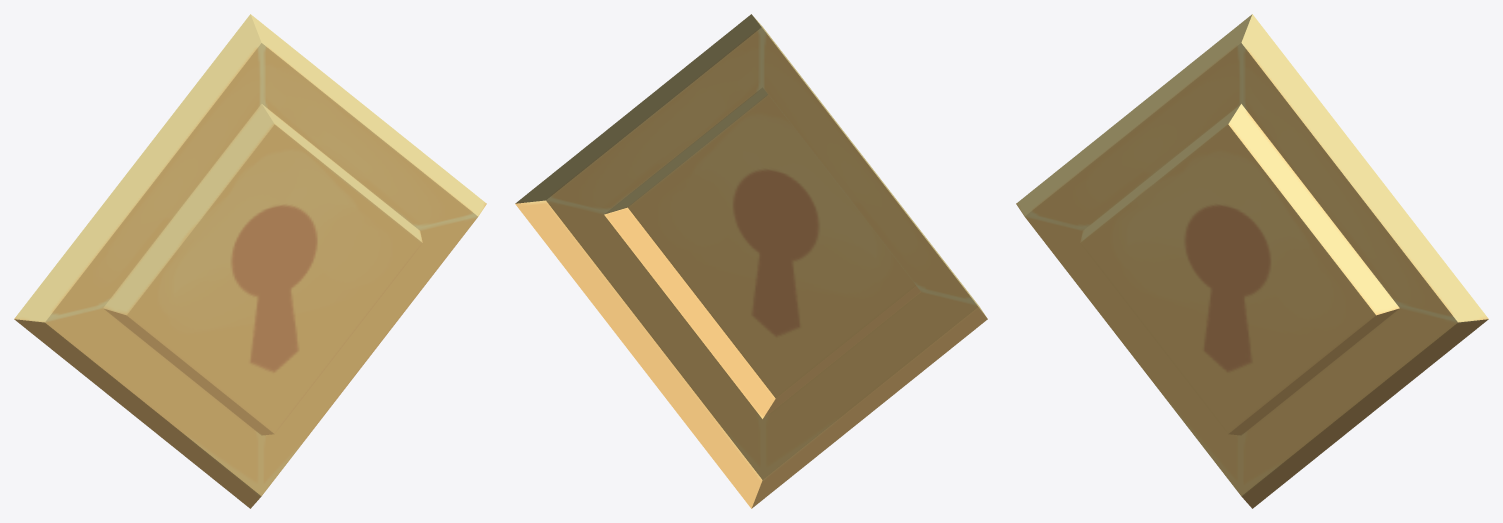
The model's file is doorLock_MESH.fbx.
3 views of the same model, side by side, from view 1: azimuth 30°, elevation 25°; view 2: azimuth 150°, elevation 25°; view 3: azimuth 330°, elevation 25° (orthographic).
Visible parts, largest first — view 1: doorLock_MESH; view 2: doorLock_MESH; view 3: doorLock_MESH.
Part boxes in pixels (<box>): doorLock_MESH: <box>14,14,486,508</box>; doorLock_MESH: <box>515,14,987,508</box>; doorLock_MESH: <box>1016,14,1488,508</box>.
Bounding box in the file's own units: 13.38 × 13.38 × 1.19.
